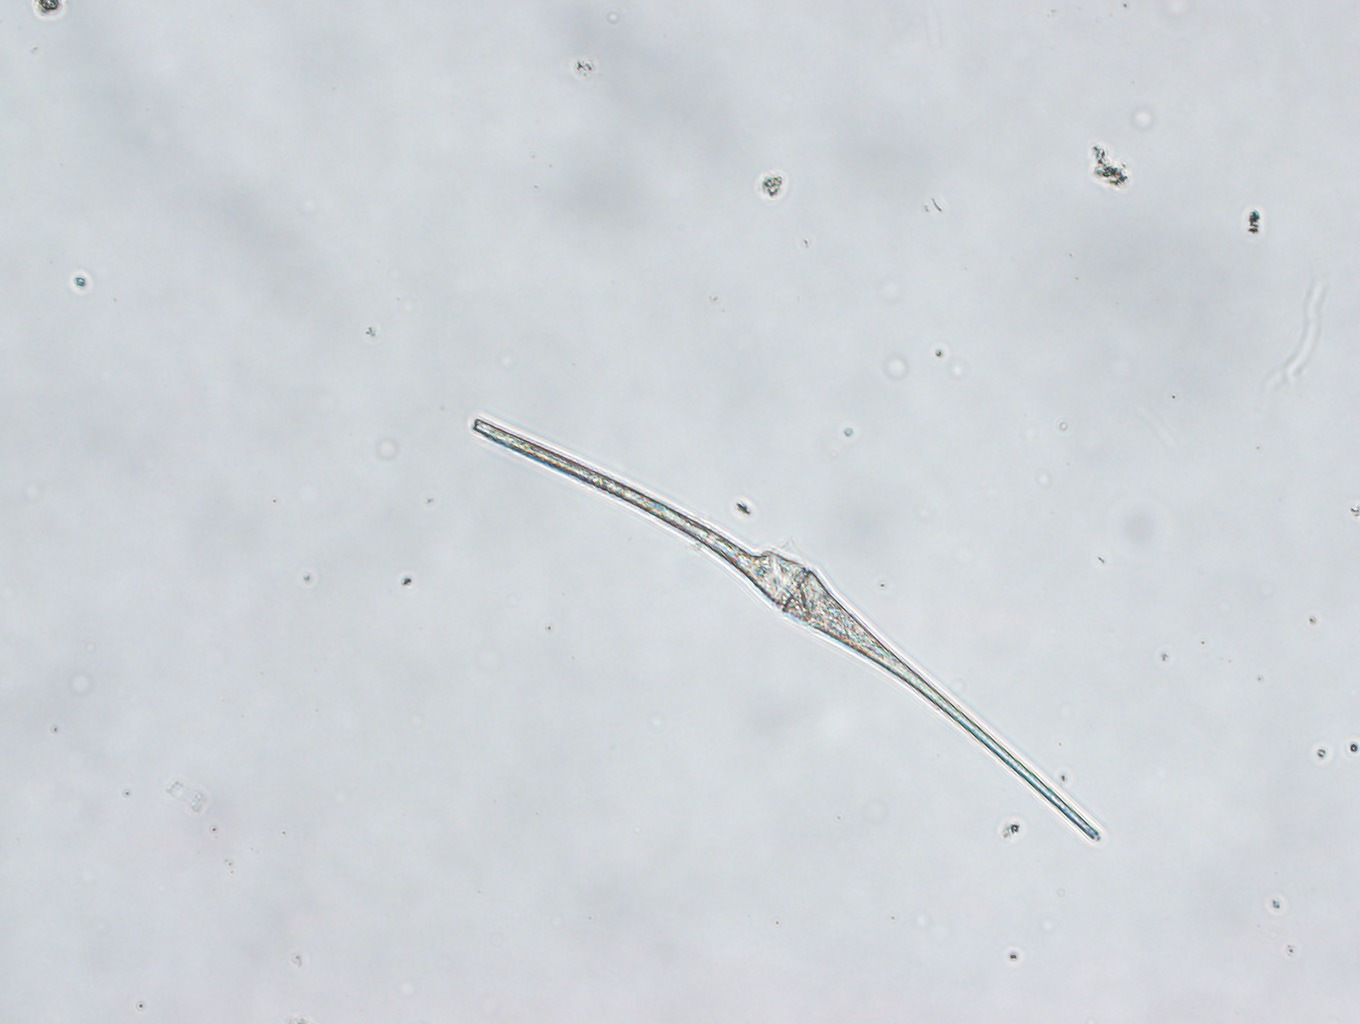ceratium fusus: (471, 414, 1106, 848)
